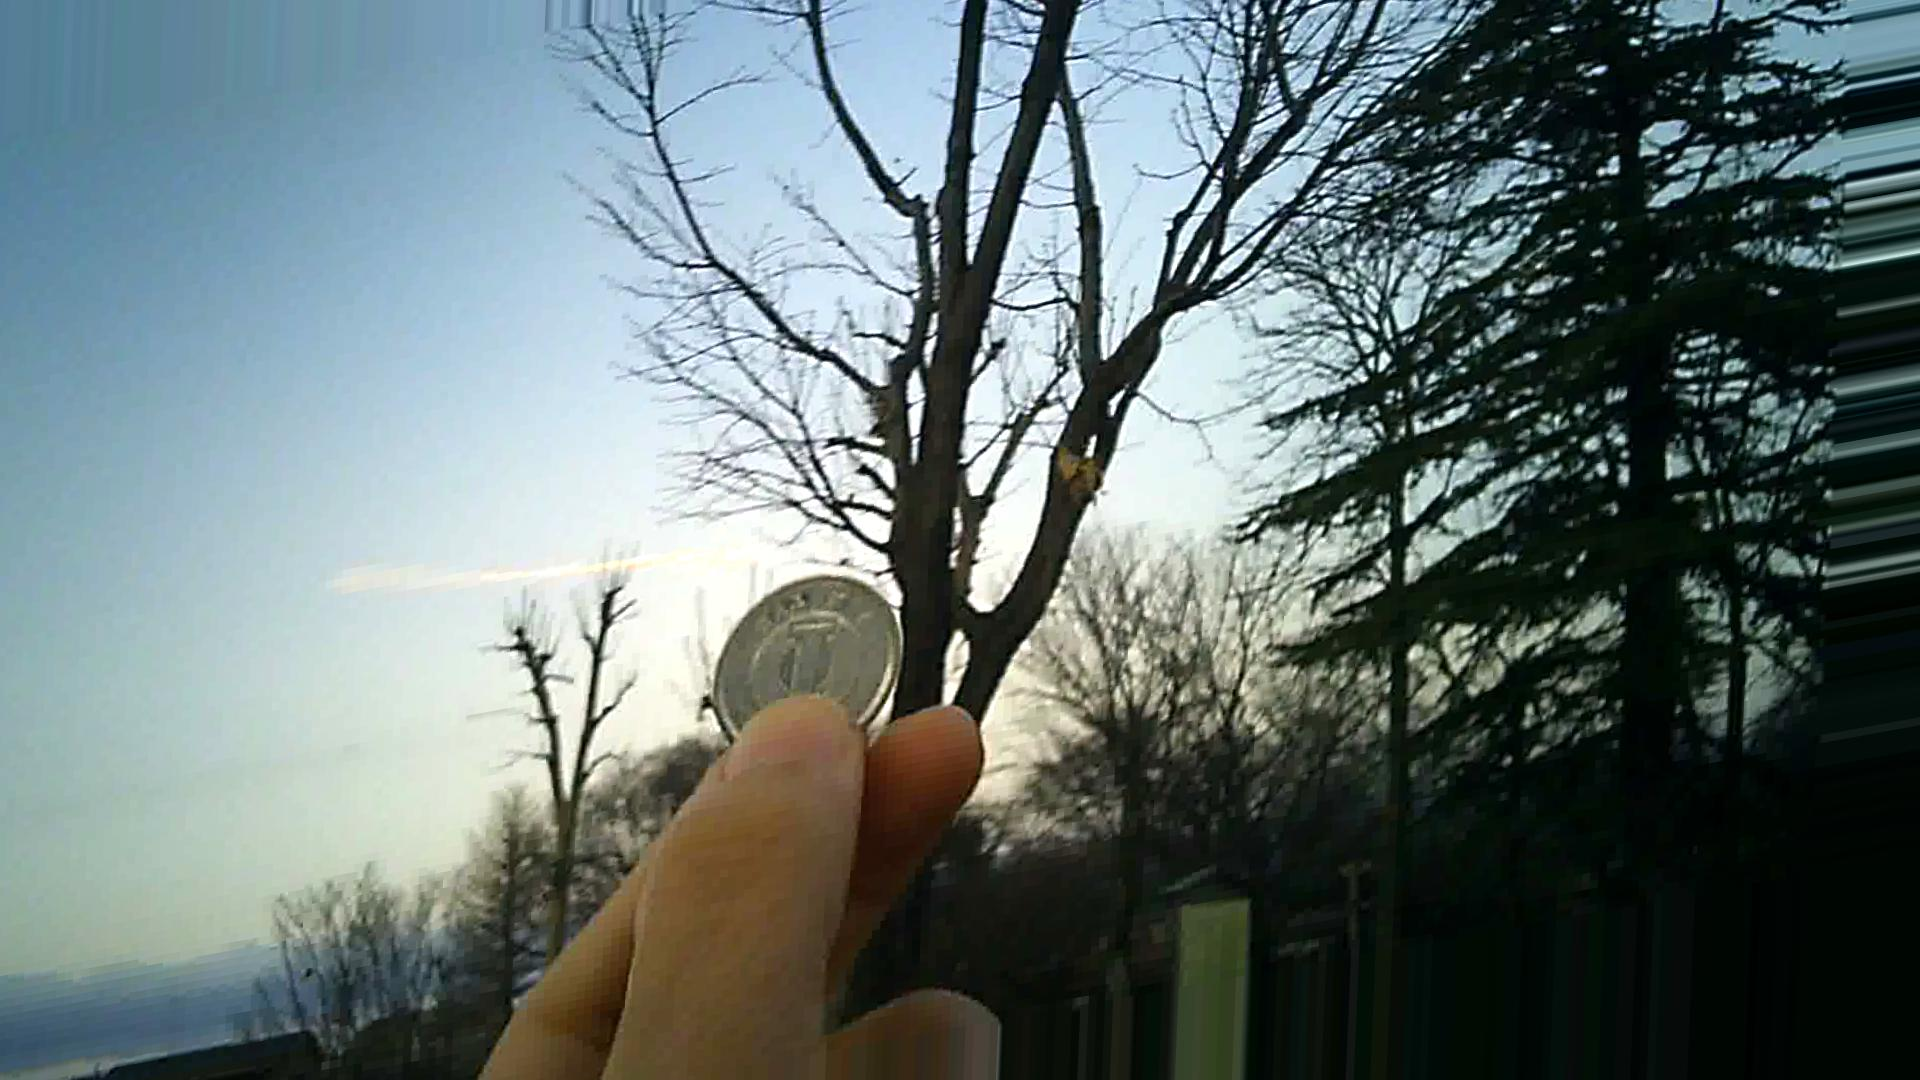1 Yen: (705, 554, 913, 748)
